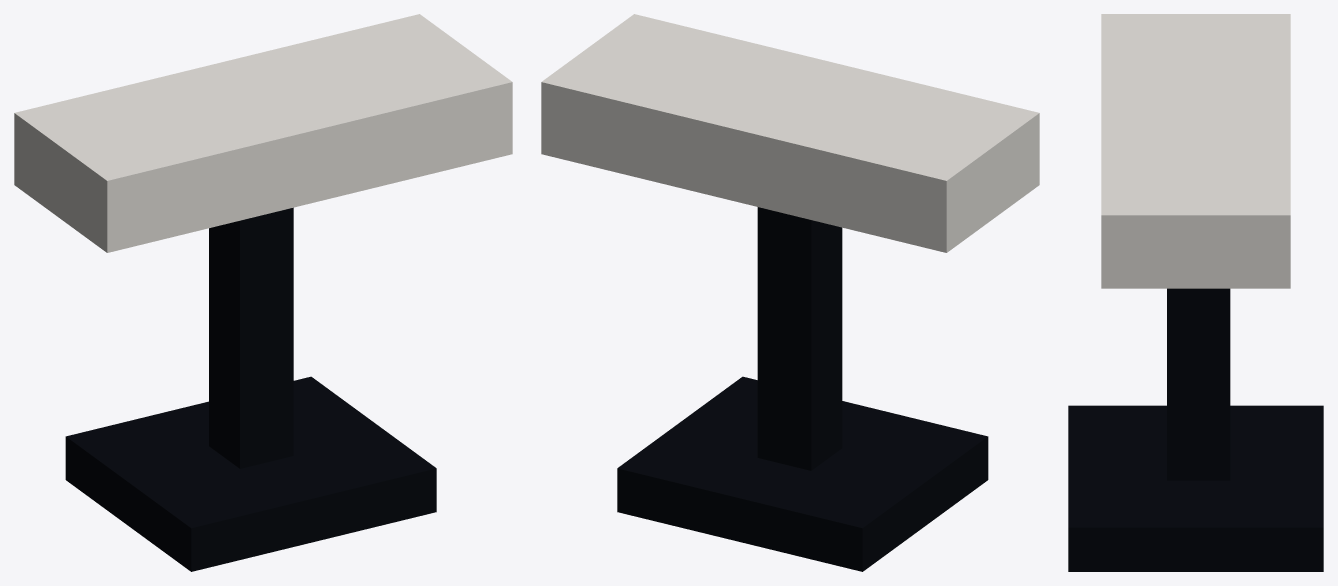
File: ShipStand.fbx
The picture shows the model from 3 angles, left to right: view 1: azimuth 30°, elevation 25°; view 2: azimuth 150°, elevation 25°; view 3: azimuth 270°, elevation 25°; orthographic projection.
Visible parts, largest first — view 1: ShipStand; view 2: ShipStand; view 3: ShipStand.
Boxes of the visible parts, bbox=[...] form: ShipStand: bbox=[14, 14, 512, 571]; ShipStand: bbox=[541, 14, 1039, 571]; ShipStand: bbox=[1068, 14, 1323, 571].
Size of the model in its own units: 78.14 by 72.87 by 41.89.
